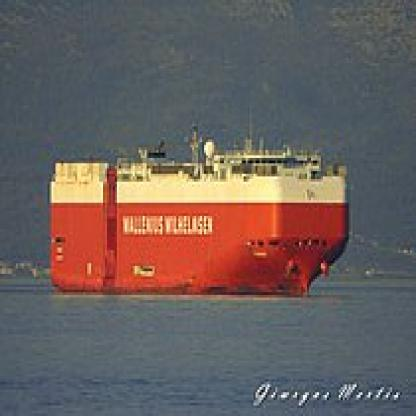Tanker: (44, 151, 352, 298)
